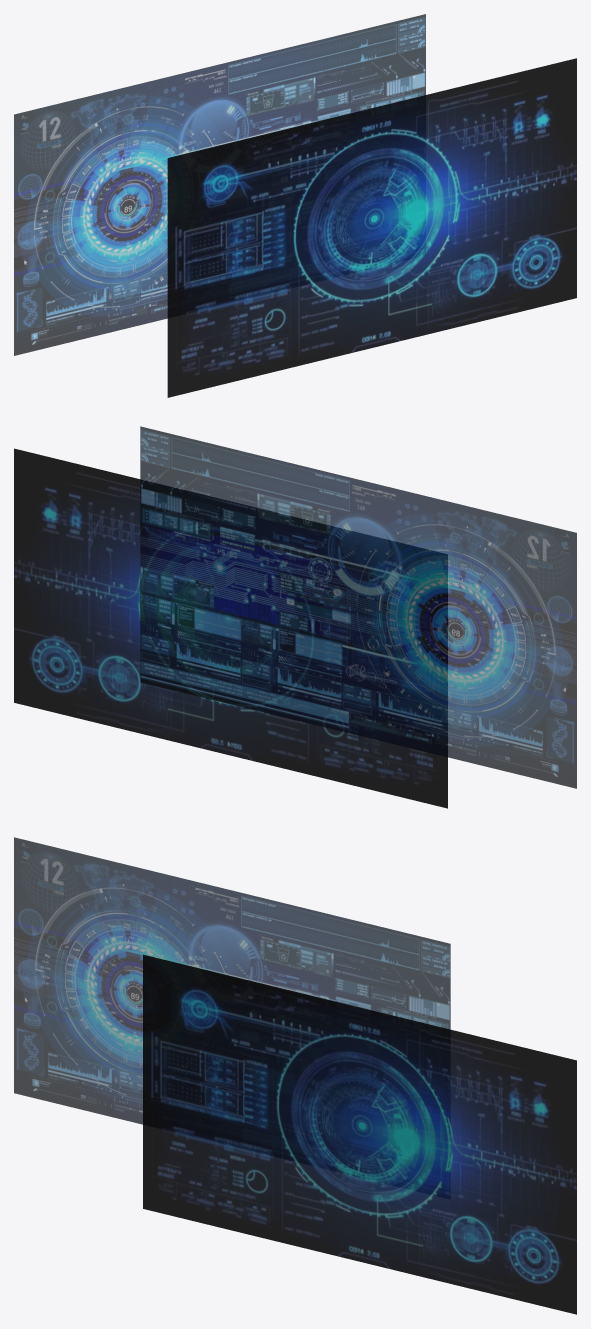
The model's file is computer (1).glb.
3 renders of one model, top to bottom at view 1: azimuth 30°, elevation 25°; view 2: azimuth 150°, elevation 25°; view 3: azimuth 330°, elevation 25°, orthographic. The views are drawn at different scales.
Visible parts, largest first — view 1: Object_7, Object_5; view 2: Object_5, Object_7; view 3: Object_7, Object_5.
Part boxes in pixels (box(x1,y1,x2,y2)): Object_7: box(167, 58, 576, 397); Object_5: box(14, 14, 425, 355); Object_5: box(140, 426, 576, 788); Object_7: box(14, 448, 447, 808); Object_7: box(143, 954, 576, 1314); Object_5: box(14, 837, 450, 1124).
Size of the model in its own units: 0.9932 by 0.5297 by 0.05.
2 materials, 2 textured.
